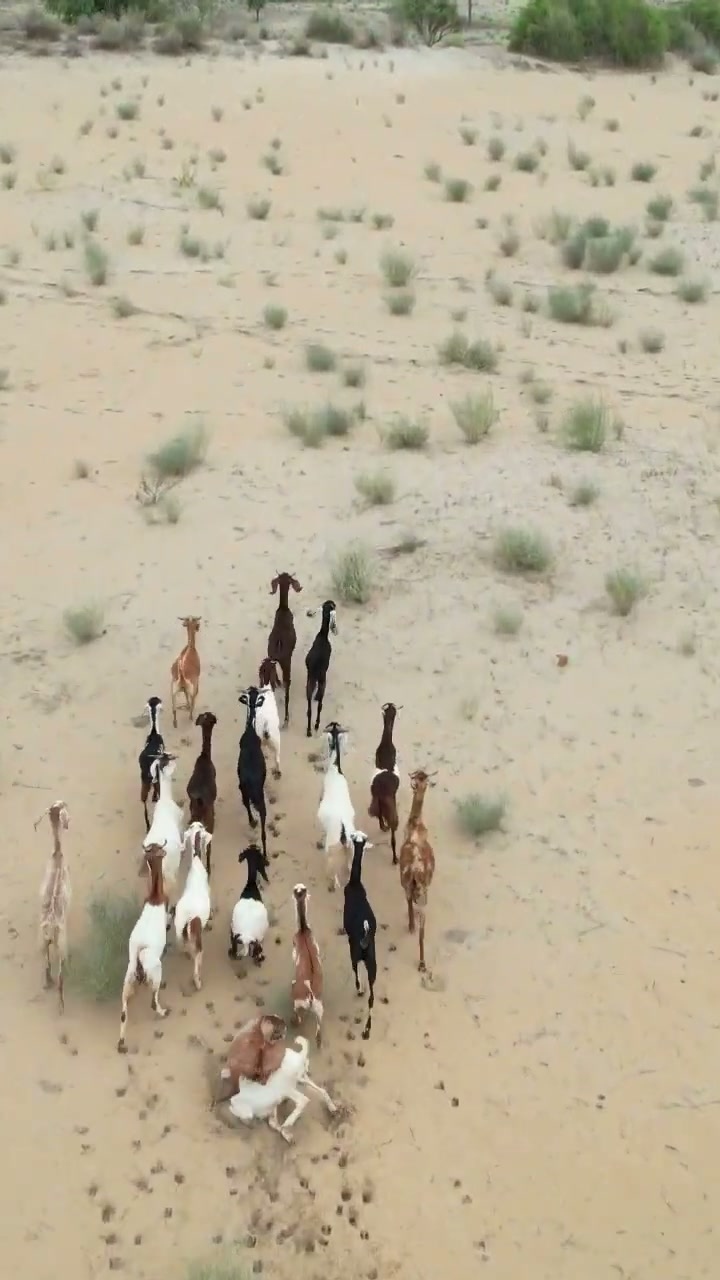animal_foot_print: (48, 965, 403, 1279)
